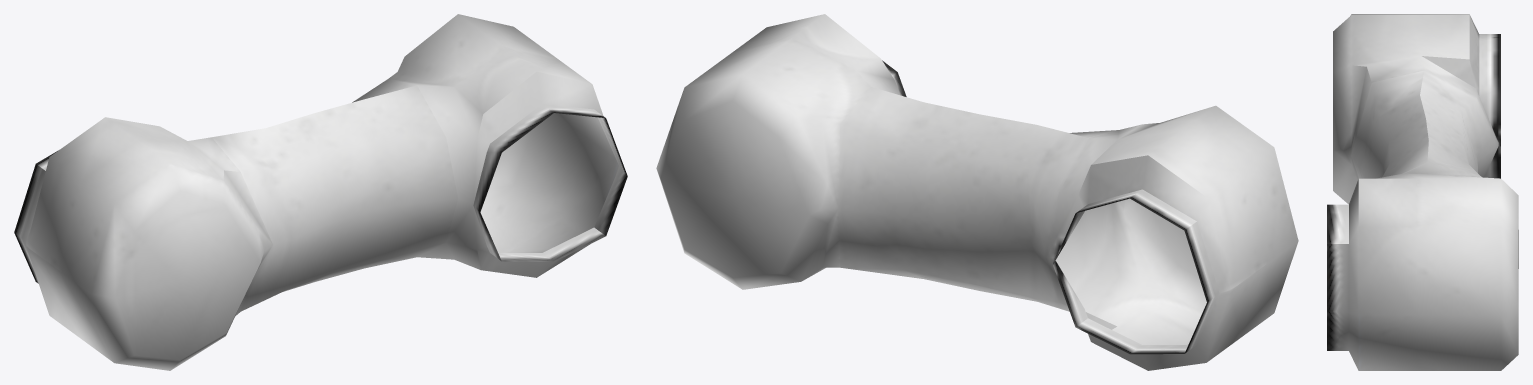
Rendered from little_arm_link_5.dae.
3 views of the same model, side by side, from view 1: azimuth 30°, elevation 25°; view 2: azimuth 150°, elevation 25°; view 3: azimuth 270°, elevation 25° (orthographic). The views are drawn at different scales.
Parts seen in each view (by area): view 1: Little_Arm_5; view 2: Little_Arm_5; view 3: Little_Arm_5.
Part boxes in pixels (bbox=[...]): Little_Arm_5: bbox=[14, 14, 627, 370]; Little_Arm_5: bbox=[656, 14, 1298, 370]; Little_Arm_5: bbox=[1327, 14, 1518, 370].
Bounding box in the file's own units: 0.6831 × 0.2355 × 0.2532.
1 material, 1 textured.
